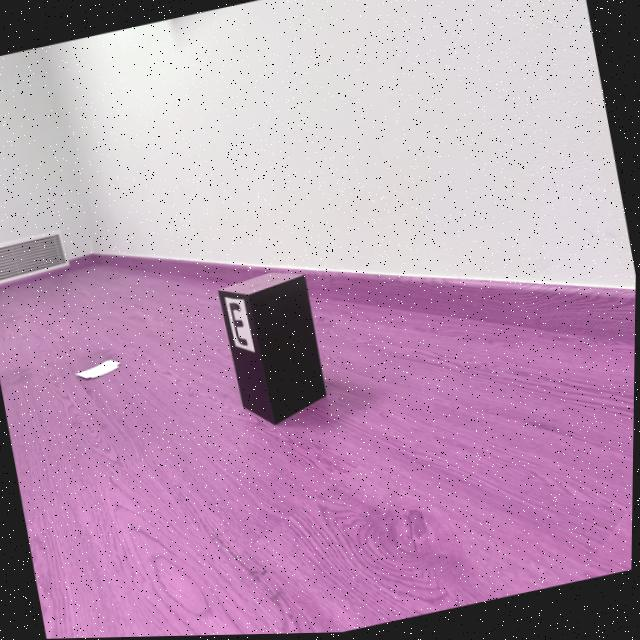E: (230, 303, 249, 348)
